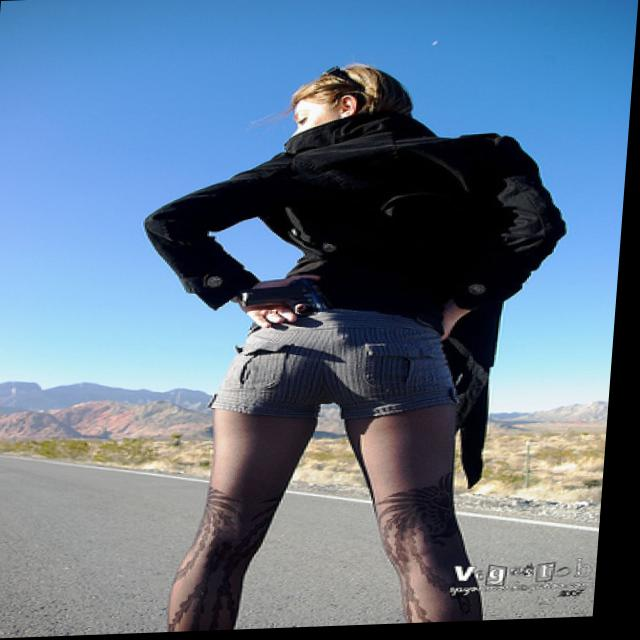handgun: (239, 276, 334, 319)
